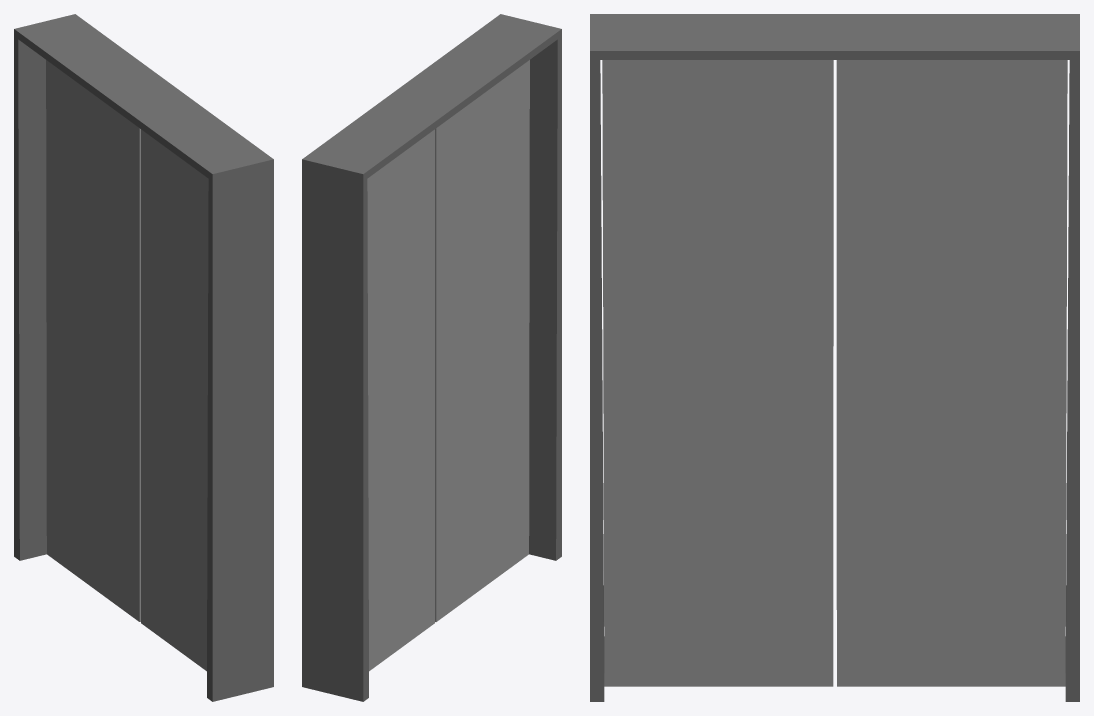
File: Door02.fbx
The picture shows the model from 3 angles, left to right: view 1: azimuth 30°, elevation 25°; view 2: azimuth 150°, elevation 25°; view 3: azimuth 270°, elevation 25°; orthographic projection. The views are drawn at different scales.
Parts seen in each view (by area): view 1: Wall03Door, Wall03Door.001, Wall03Door.002; view 2: Wall03Door, Wall03Door.002, Wall03Door.001; view 3: Wall03Door.002, Wall03Door.001, Wall03Door.
Part boxes in pixels (x1,y1,x2,y2): Wall03Door: (14, 14, 273, 701); Wall03Door.001: (46, 60, 140, 621); Wall03Door.002: (141, 129, 208, 671); Wall03Door: (302, 14, 561, 701); Wall03Door.002: (435, 60, 529, 621); Wall03Door.001: (367, 129, 434, 671); Wall03Door.002: (602, 60, 833, 686); Wall03Door.001: (836, 60, 1067, 686); Wall03Door: (590, 14, 1079, 701).
Bounding box in the file's own units: 0.2672 × 1.5 × 2.2.
